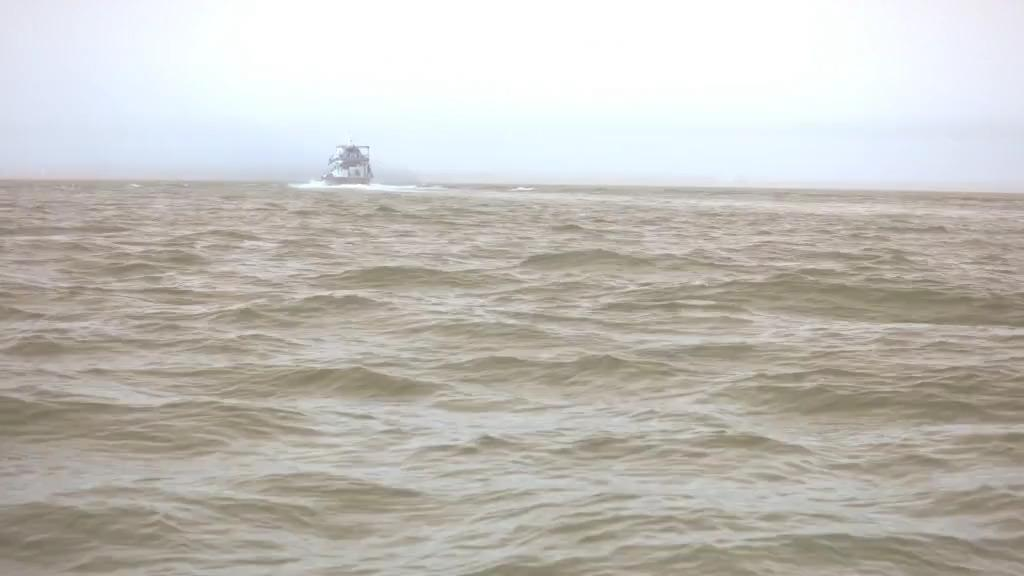PassengerShip: (322, 135, 380, 187)
